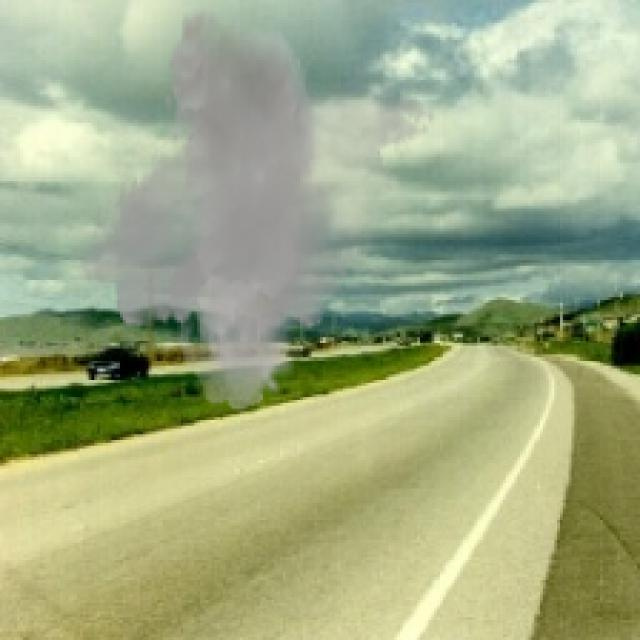smoke: (69, 9, 437, 412)
